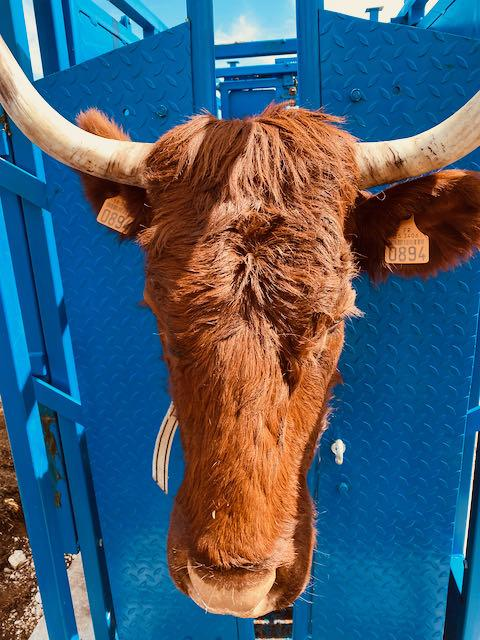muzzles: (154, 543, 327, 628)
